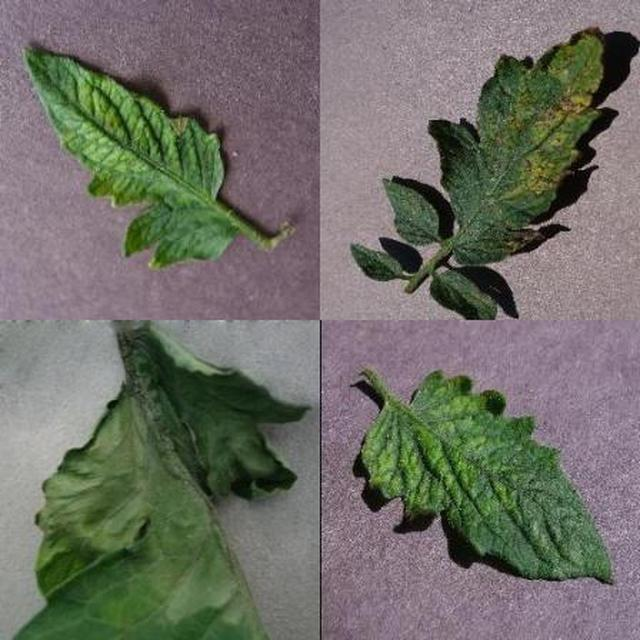Mosaic Virus Leaf: (186, 208, 640, 640)
